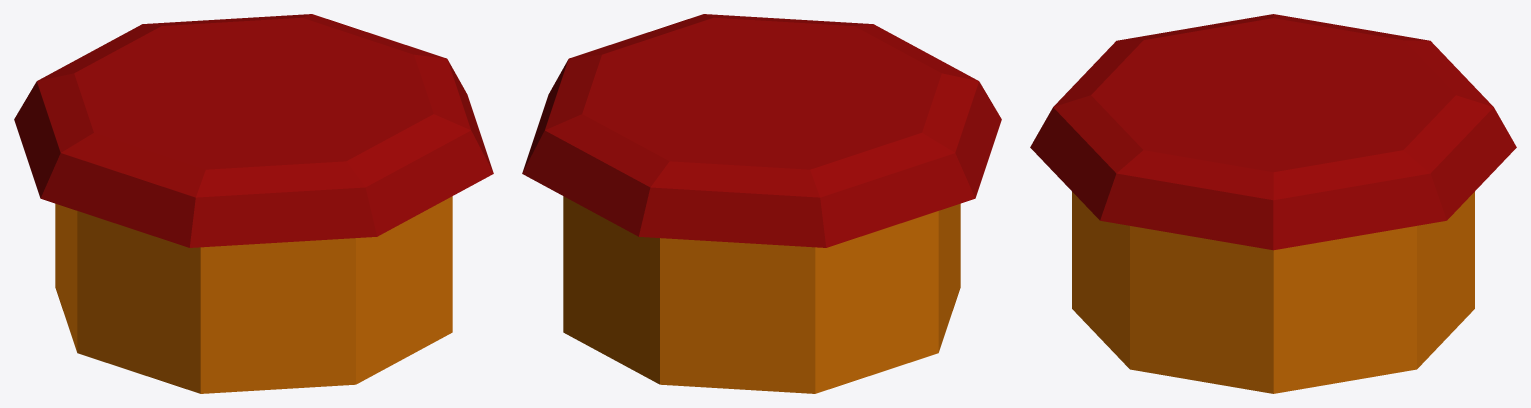
The model's file is center.glb.
The picture shows the model from 3 angles, left to right: view 1: azimuth 30°, elevation 25°; view 2: azimuth 150°, elevation 25°; view 3: azimuth 270°, elevation 25°; orthographic projection.
Visible parts, largest first — view 1: Center; view 2: Center; view 3: Center.
Boxes of the visible parts, left/top/right/bottom form: Center: left=14, top=14, right=493, bottom=393; Center: left=522, top=14, right=1001, bottom=393; Center: left=1030, top=14, right=1516, bottom=393.
Bounding box in the file's own units: 1.25 × 0.6031 × 1.25.
